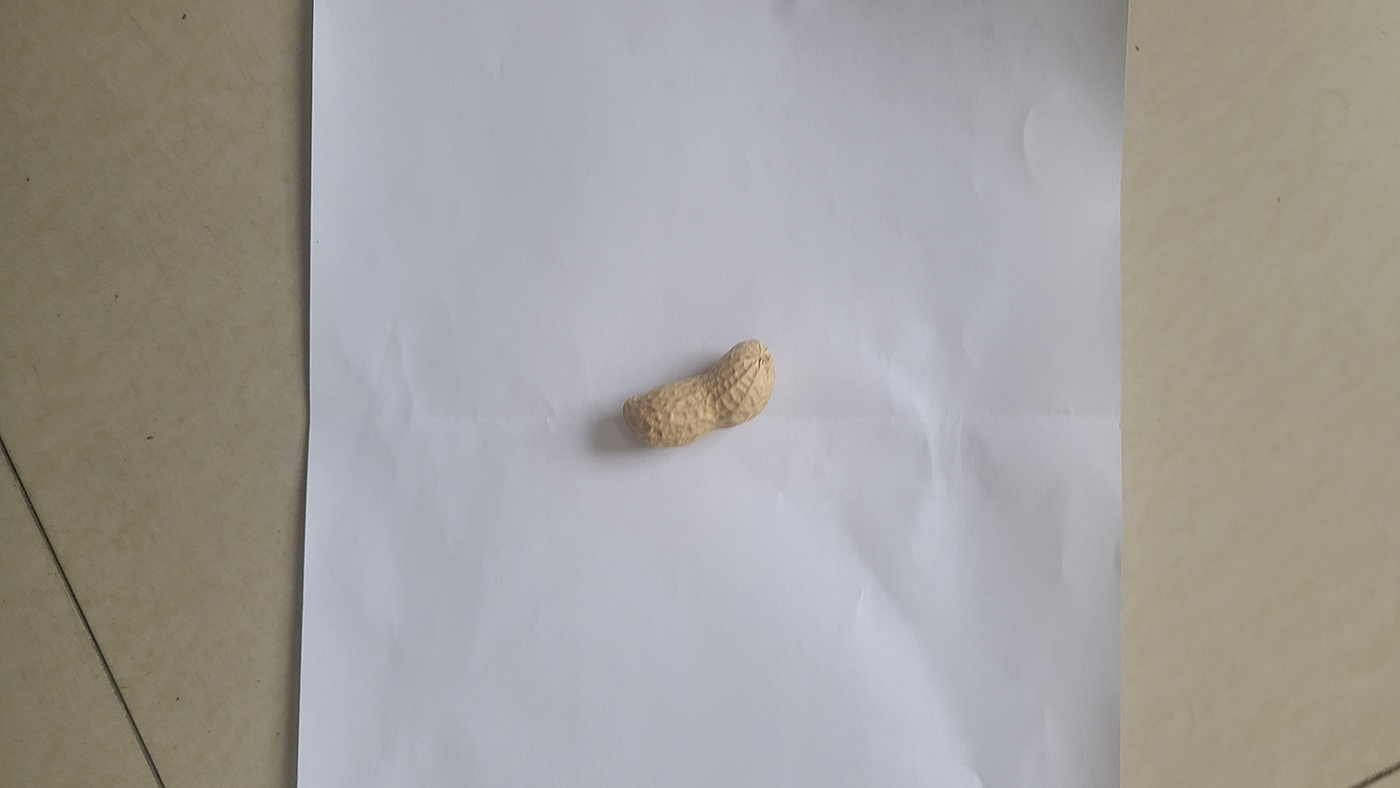h: (621, 337, 776, 446)
